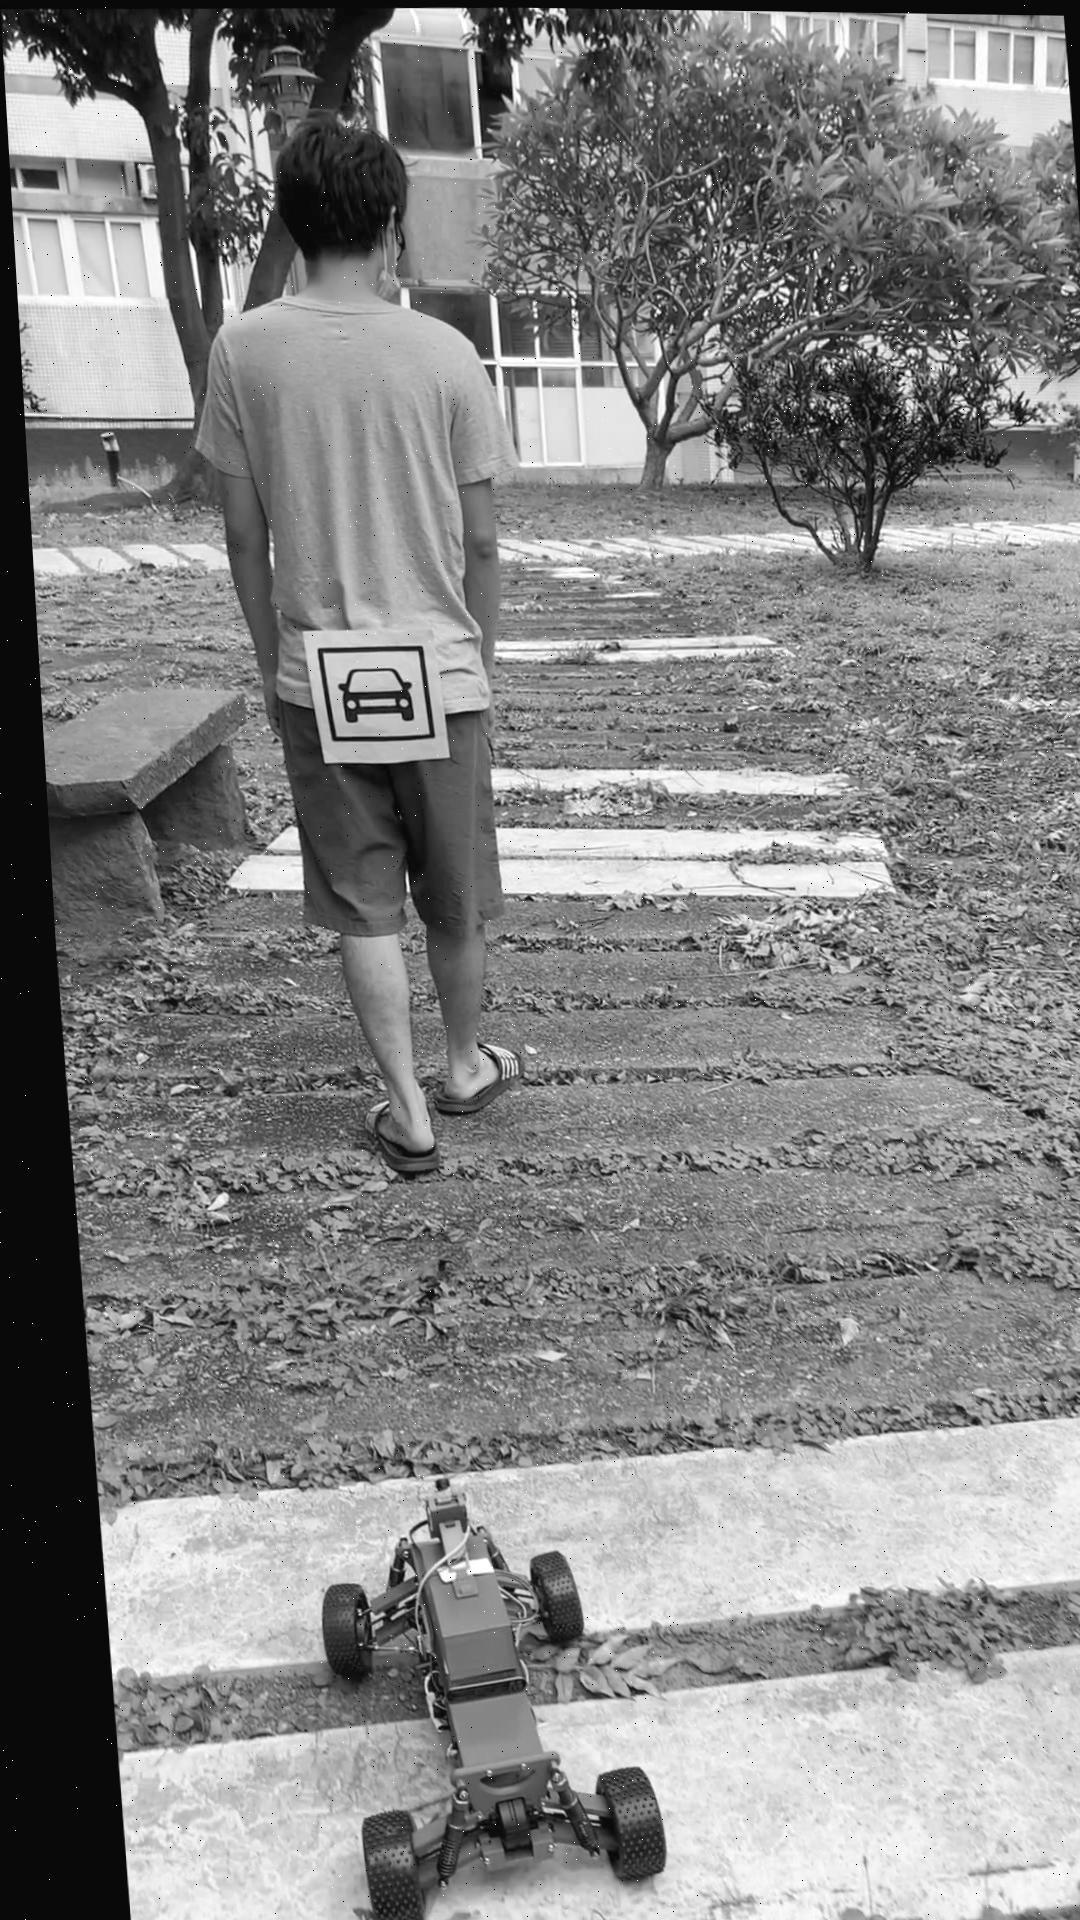car_img: (307, 642, 427, 742)
